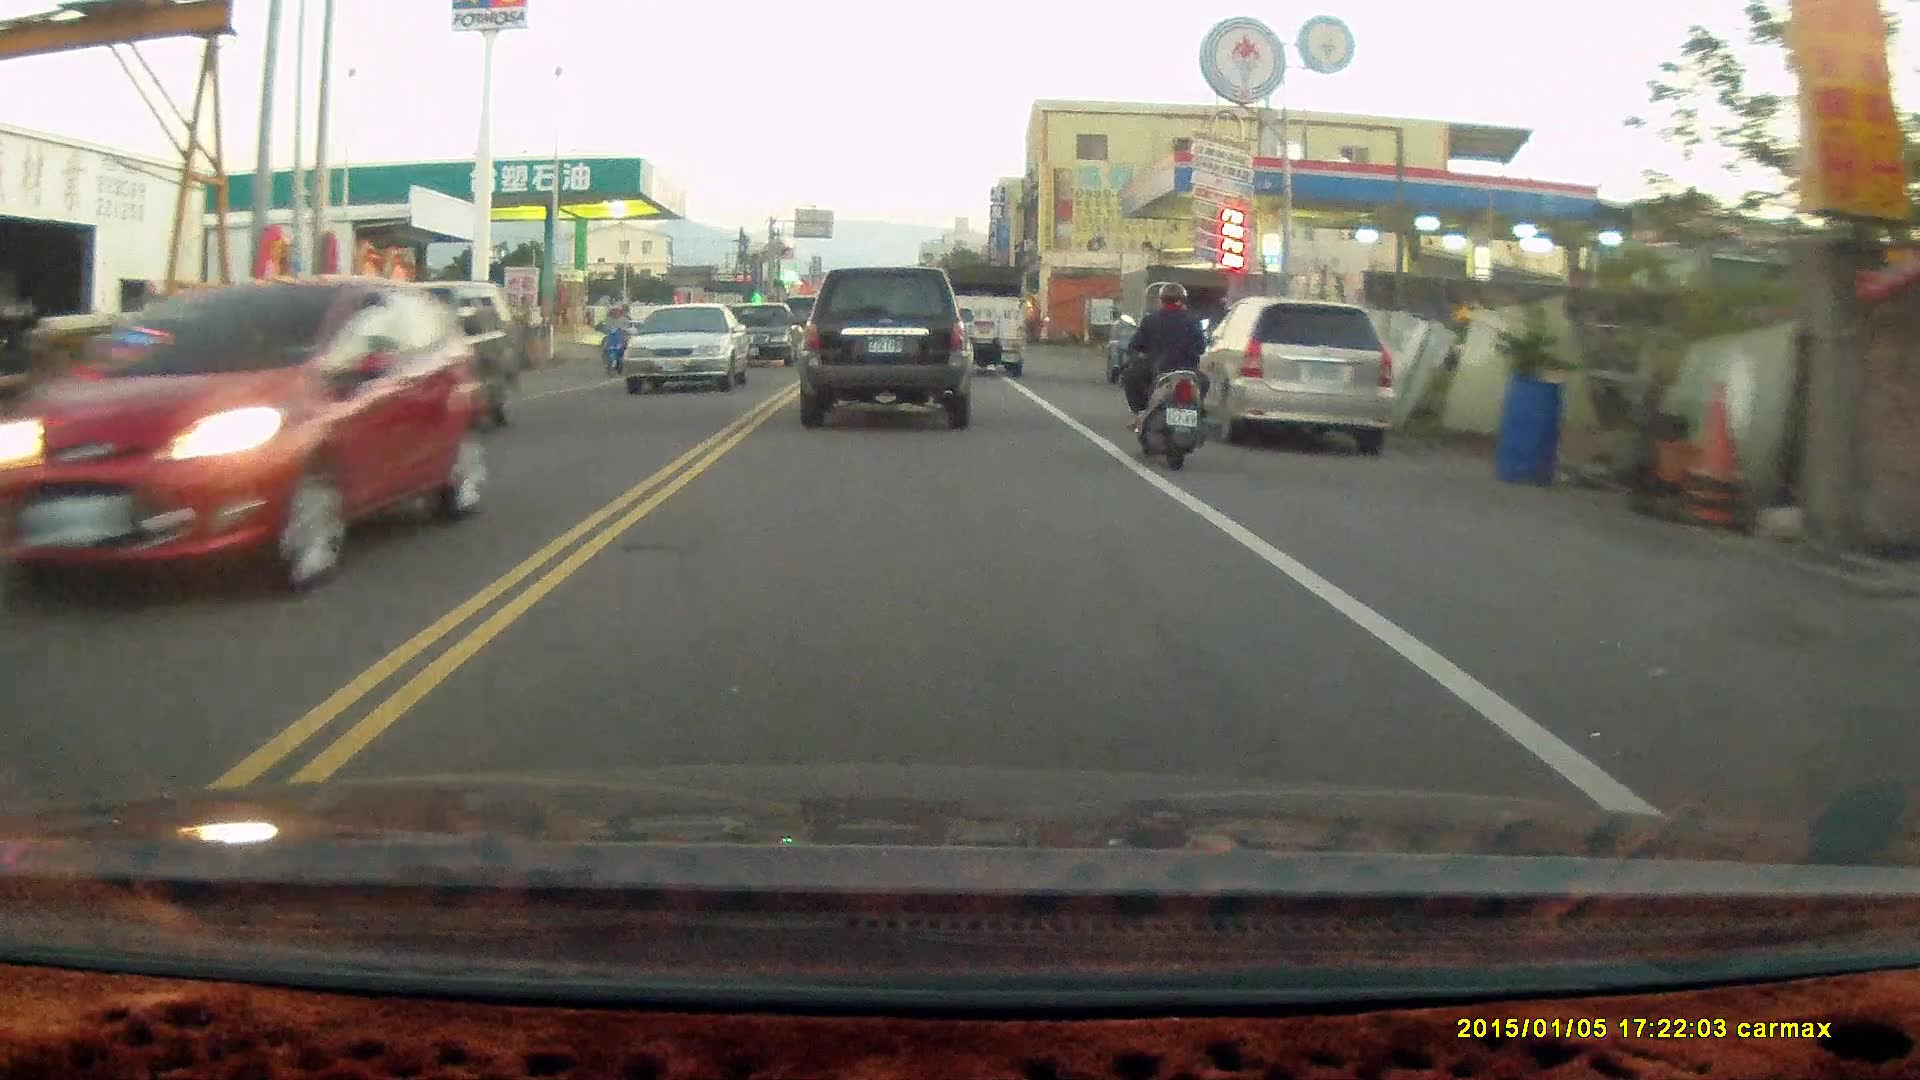rider: (1114, 274, 1211, 462), (594, 301, 638, 378)
vehicle: (1, 270, 489, 592), (280, 276, 514, 452), (1192, 294, 1405, 456), (794, 264, 972, 429), (1106, 263, 1234, 380), (622, 302, 754, 393), (937, 259, 1024, 376), (723, 301, 804, 365)
